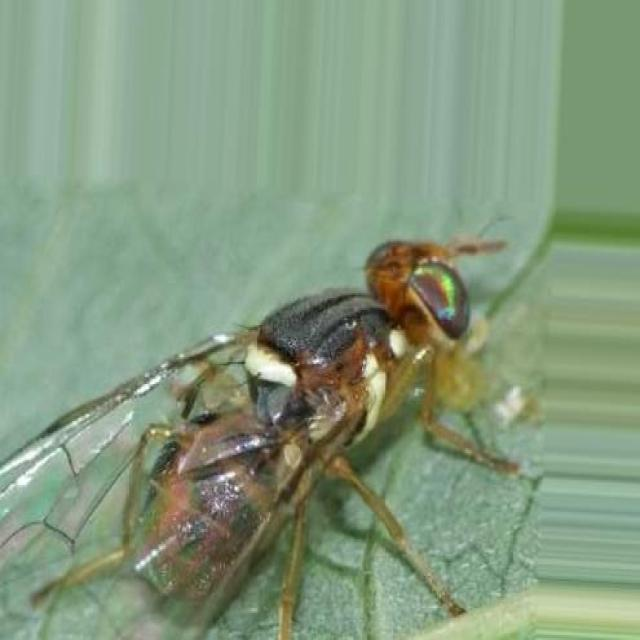Olive Fruit Fly: (0, 214, 556, 640)
